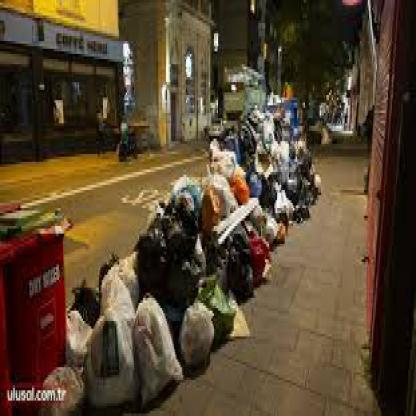Garbage: (73, 280, 184, 414), (148, 202, 241, 354), (210, 134, 278, 274), (250, 112, 324, 224)
